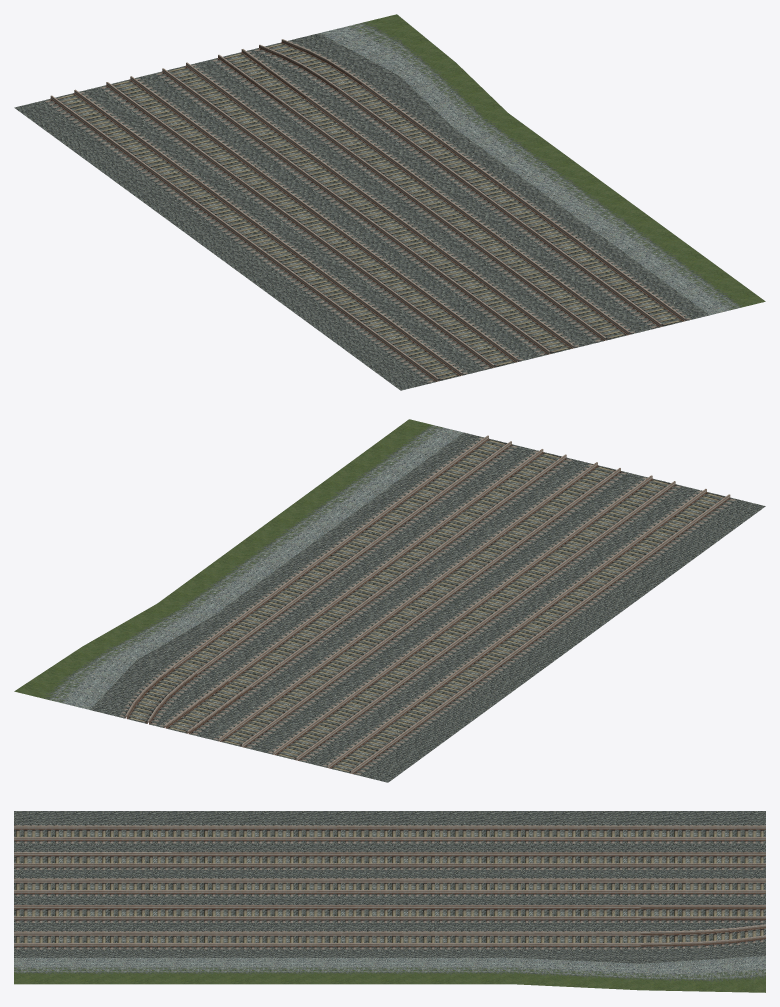
Rendered from traintrax03c_sfs.obj.
The picture shows the model from 3 angles, top to bottom: view 1: azimuth 30°, elevation 25°; view 2: azimuth 150°, elevation 25°; view 3: azimuth 270°, elevation 25°; orthographic projection. The views are drawn at different scales.
Parts seen in each view (by area): view 1: traintrax03c_SFS; view 2: traintrax03c_SFS; view 3: traintrax03c_SFS.
Part boxes in pixels (x1=…): traintrax03c_SFS: x1=14, y1=14, x2=765, y2=390; traintrax03c_SFS: x1=14, y1=419, x2=765, y2=782; traintrax03c_SFS: x1=14, y1=811, x2=765, y2=992.
Bounding box in the file's own units: 27.44 × 0.2 × 48.
3 materials, 3 textured.
